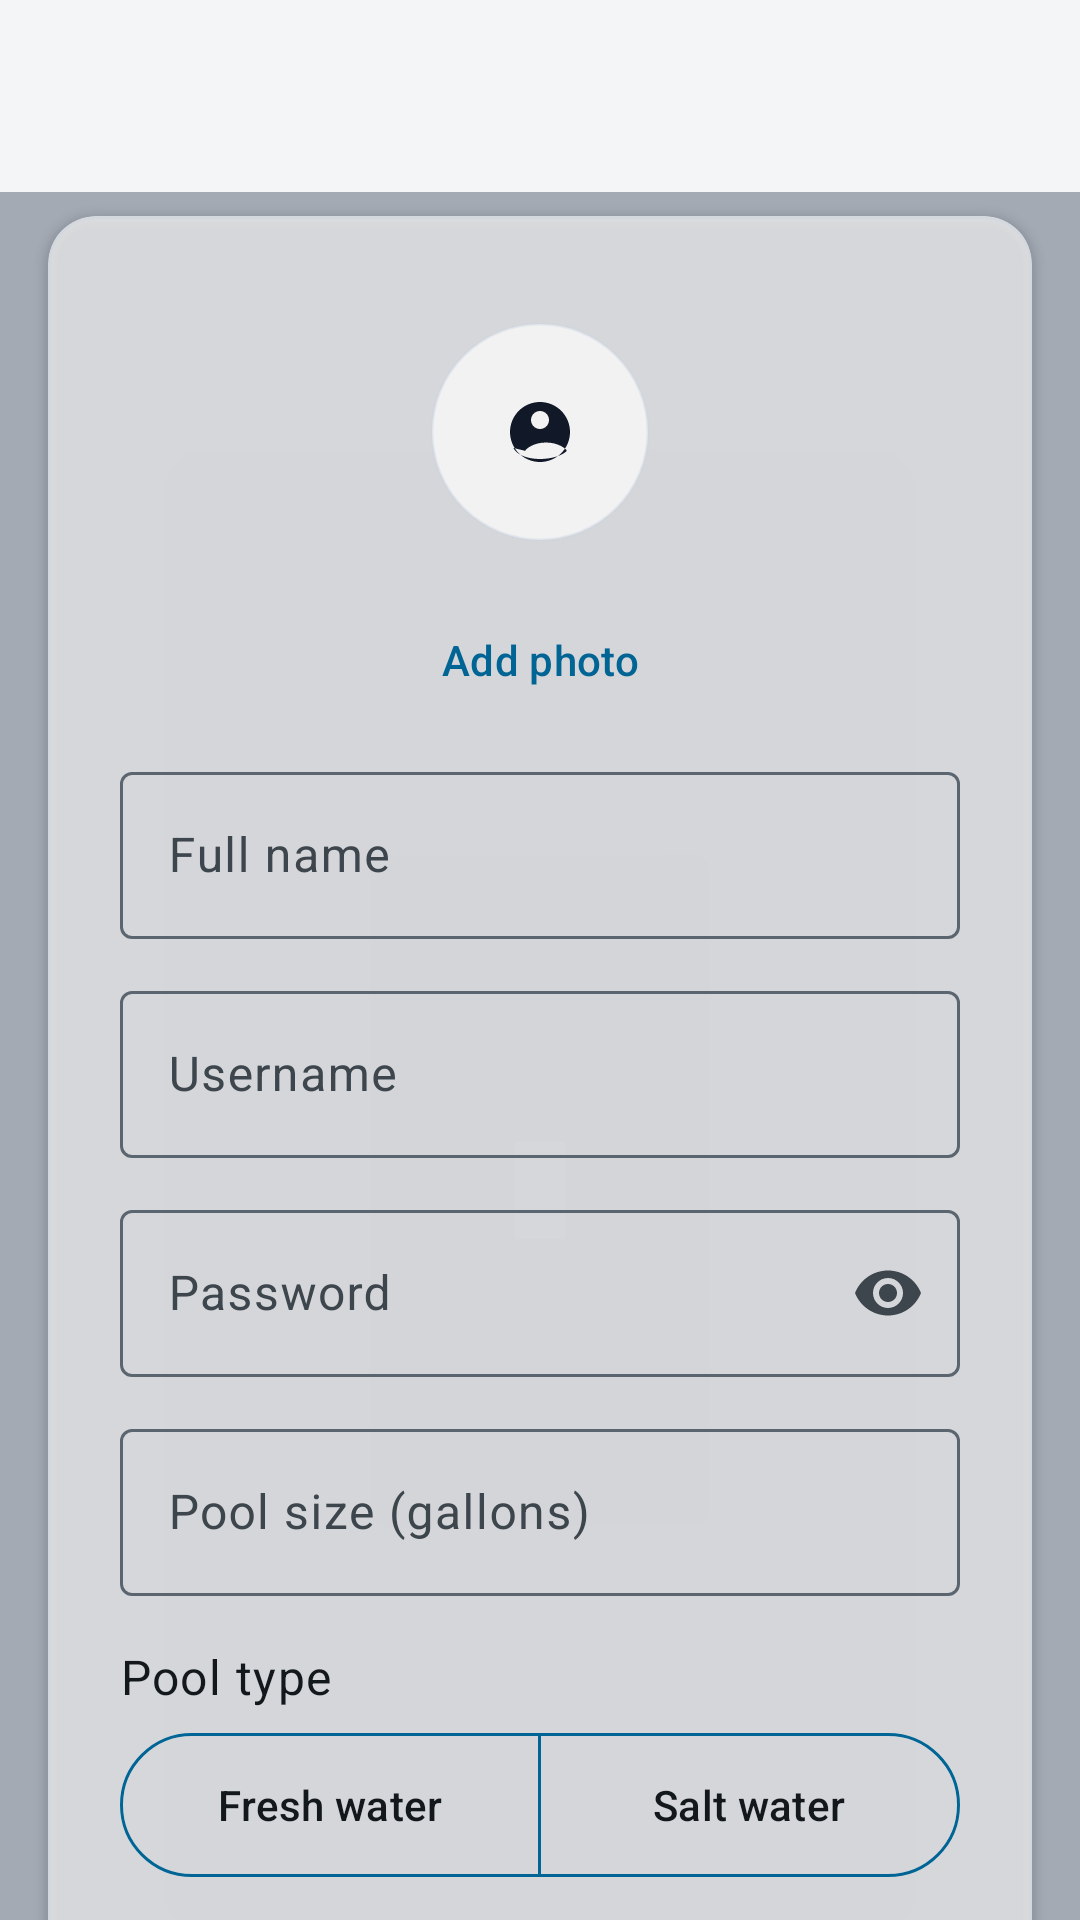

Icons on this 1080px x 1920px Android screen, each with the point to tap as point (x, y):
Profile photo: point (540, 432)
